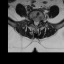CCS_normal: (35, 19, 37, 27)
LFS_severe_stenosis: (39, 17, 41, 23)
LLS_stenosis: (37, 19, 39, 24)
RFS_severe_stenosis: (31, 17, 33, 23)
RLS_normal: (33, 19, 35, 25)
